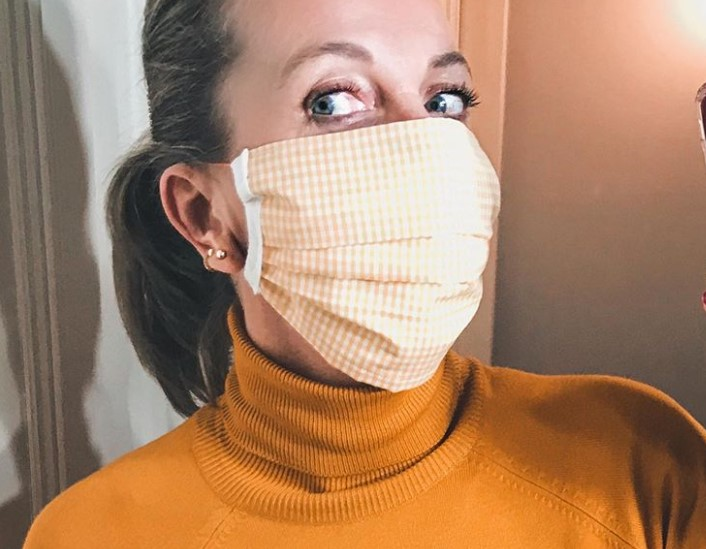face_with_mask: (145, 1, 507, 400)
